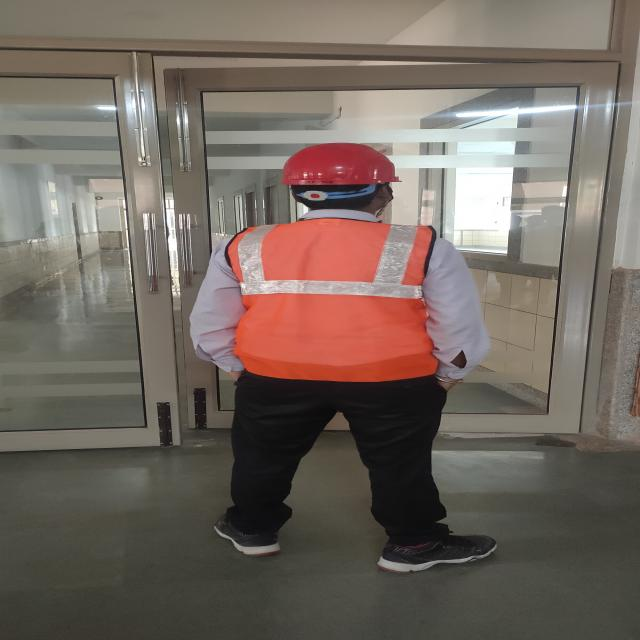safe: (193, 142, 485, 570)
